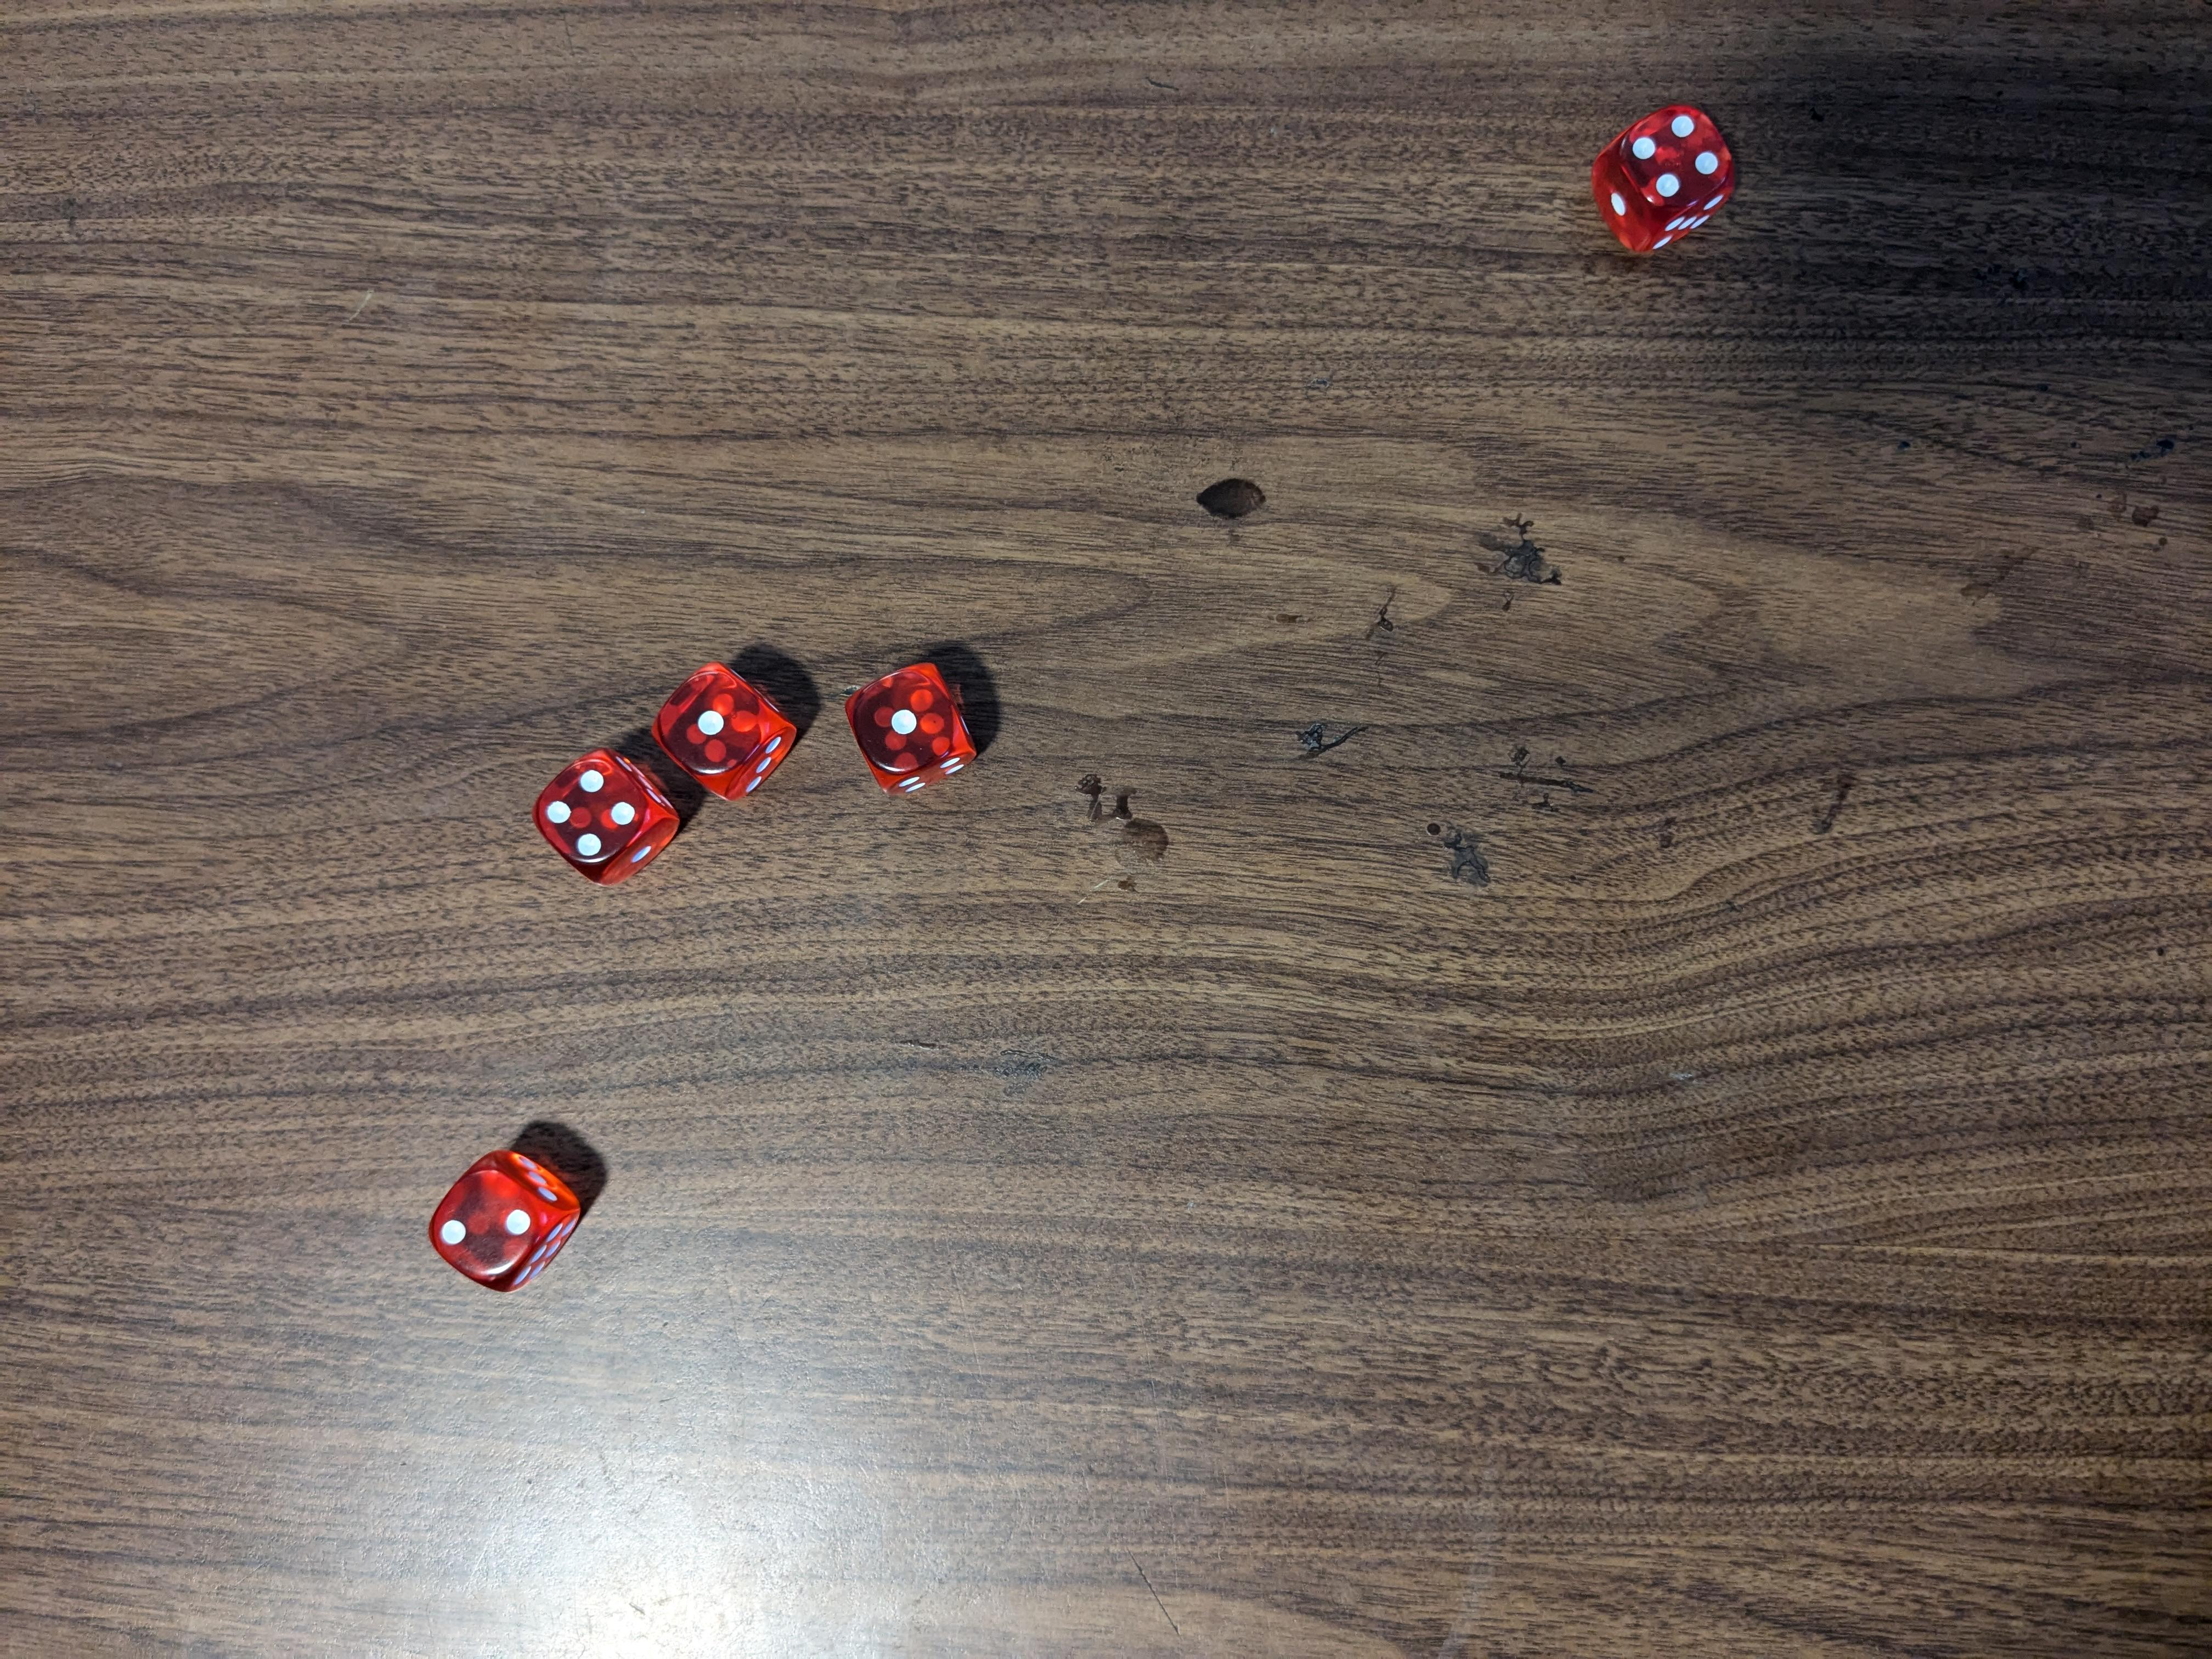four: (1588, 99, 1735, 249), (526, 753, 683, 889)
one: (648, 657, 796, 807), (853, 653, 982, 795)
two: (425, 1145, 592, 1298)
